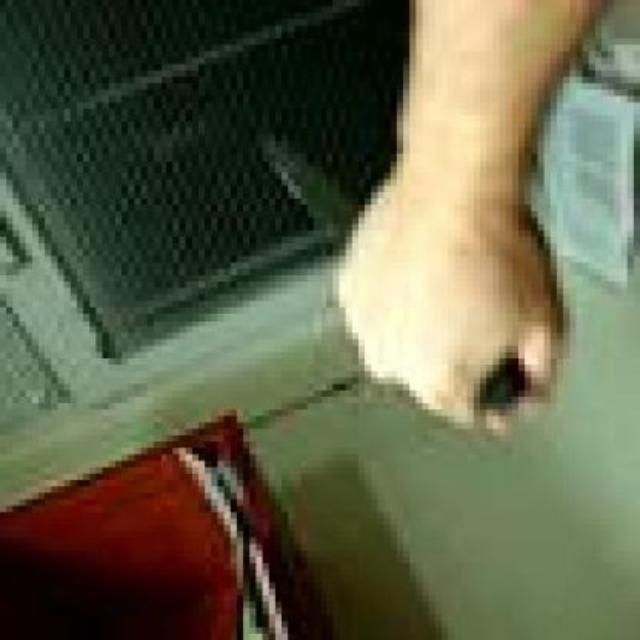Knife: (264, 140, 532, 410)
